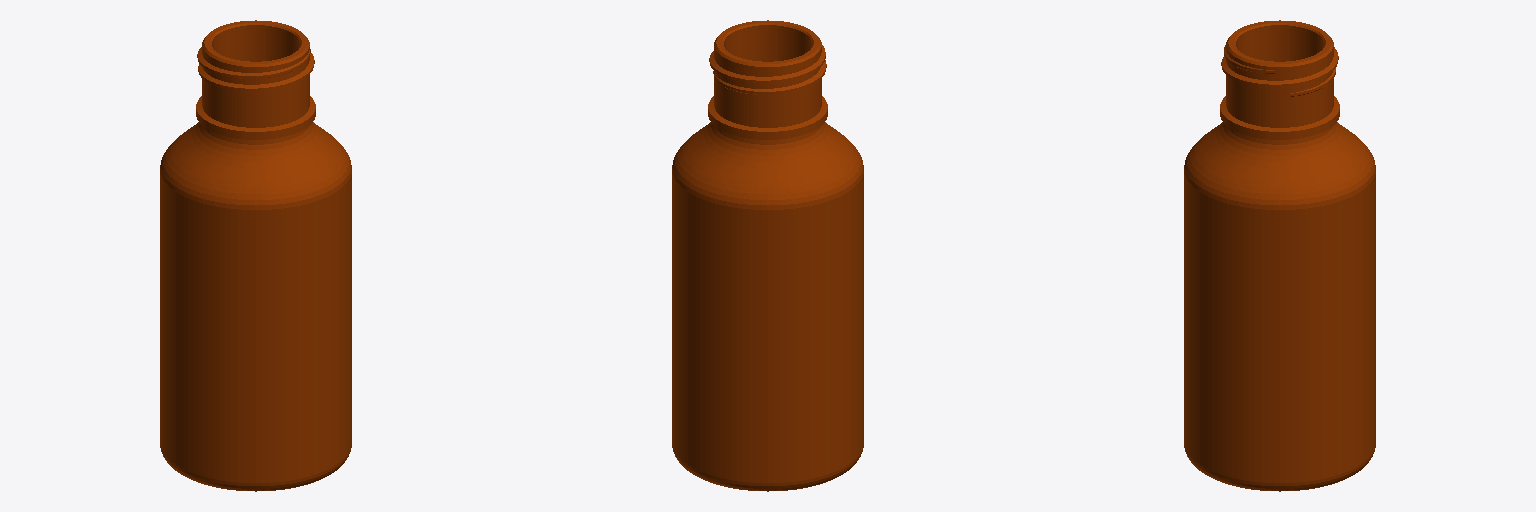
The robot description file, URDF, robot "reference_bottle":
<?xml version="1.0" encoding="utf-8"?>
<!-- Generated by scripts/generate_iris_pipette_scene.py; do not edit by hand. -->
<!-- reference_bottle.xml as a URDF: the 60 ml amber bottle, one free rigid body, origin at
     the base on the axis, +Z up, hollow (a ring of boxes) so the pipette can go down the neck. -->
<robot name="reference_bottle">
  <link name="reference_bottle">
    <inertial>
      <origin xyz="-8.54769e-06 -1.91196e-11 0.040236" rpy="0 -0.000698572 0"/>
      <mass value="0.0577634"/>
      <inertia ixx="5.29285e-05" ixy="0" ixz="0" iyy="5.29286e-05" iyz="0" izz="1.72964e-05"/>
    </inertial>
    <visual>
      <geometry><mesh filename="meshes/amber_glass.stl"/></geometry>
      <material name="bottle"><color rgba="0.62 0.28 0.05 0.5"/></material>
    </visual>
    <collision>
      <origin xyz="0 0 0.00125" rpy="0 0 0"/>
      <geometry><cylinder radius="0.018" length="0.0025"/></geometry>
    </collision>
    <collision>
      <origin xyz="0.019 0 0.034125" rpy="0 0 0"/>
      <geometry><box size="0.002 0.00716085 0.06325"/></geometry>
    </collision>
    <collision>
      <origin xyz="0.0175537 0.00727099 0.034125" rpy="0 0 0.392699"/>
      <geometry><box size="0.002 0.00716085 0.06325"/></geometry>
    </collision>
    <collision>
      <origin xyz="0.013435 0.013435 0.034125" rpy="0 0 0.785398"/>
      <geometry><box size="0.002 0.00716085 0.06325"/></geometry>
    </collision>
    <collision>
      <origin xyz="0.00727099 0.0175537 0.034125" rpy="0 0 1.1781"/>
      <geometry><box size="0.002 0.00716085 0.06325"/></geometry>
    </collision>
    <collision>
      <origin xyz="1.16341e-18 0.019 0.034125" rpy="0 0 1.5708"/>
      <geometry><box size="0.002 0.00716085 0.06325"/></geometry>
    </collision>
    <collision>
      <origin xyz="-0.00727099 0.0175537 0.034125" rpy="0 0 1.9635"/>
      <geometry><box size="0.002 0.00716085 0.06325"/></geometry>
    </collision>
    <collision>
      <origin xyz="-0.013435 0.013435 0.034125" rpy="0 0 2.35619"/>
      <geometry><box size="0.002 0.00716085 0.06325"/></geometry>
    </collision>
    <collision>
      <origin xyz="-0.0175537 0.00727099 0.034125" rpy="0 0 2.74889"/>
      <geometry><box size="0.002 0.00716085 0.06325"/></geometry>
    </collision>
    <collision>
      <origin xyz="-0.019 2.32683e-18 0.034125" rpy="0 0 3.14159"/>
      <geometry><box size="0.002 0.00716085 0.06325"/></geometry>
    </collision>
    <collision>
      <origin xyz="-0.0175537 -0.00727099 0.034125" rpy="0 0 -2.74889"/>
      <geometry><box size="0.002 0.00716085 0.06325"/></geometry>
    </collision>
    <collision>
      <origin xyz="-0.013435 -0.013435 0.034125" rpy="0 0 -2.35619"/>
      <geometry><box size="0.002 0.00716085 0.06325"/></geometry>
    </collision>
    <collision>
      <origin xyz="-0.00727099 -0.0175537 0.034125" rpy="0 0 -1.9635"/>
      <geometry><box size="0.002 0.00716085 0.06325"/></geometry>
    </collision>
    <collision>
      <origin xyz="-3.49024e-18 -0.019 0.034125" rpy="0 0 -1.5708"/>
      <geometry><box size="0.002 0.00716085 0.06325"/></geometry>
    </collision>
    <collision>
      <origin xyz="0.00727099 -0.0175537 0.034125" rpy="0 0 -1.1781"/>
      <geometry><box size="0.002 0.00716085 0.06325"/></geometry>
    </collision>
    <collision>
      <origin xyz="0.013435 -0.013435 0.034125" rpy="0 0 -0.785398"/>
      <geometry><box size="0.002 0.00716085 0.06325"/></geometry>
    </collision>
    <collision>
      <origin xyz="0.0175537 -0.00727099 0.034125" rpy="0 0 -0.392699"/>
      <geometry><box size="0.002 0.00716085 0.06325"/></geometry>
    </collision>
    <collision>
      <origin xyz="0.010825 0 0.086375" rpy="0 0 0"/>
      <geometry><box size="0.00325 0.00762153 0.01725"/></geometry>
    </collision>
    <collision>
      <origin xyz="0.00765443 0.00765443 0.086375" rpy="0 0 0.785398"/>
      <geometry><box size="0.00325 0.00762153 0.01725"/></geometry>
    </collision>
    <collision>
      <origin xyz="6.6284e-19 0.010825 0.086375" rpy="0 0 1.5708"/>
      <geometry><box size="0.00325 0.00762153 0.01725"/></geometry>
    </collision>
    <collision>
      <origin xyz="-0.00765443 0.00765443 0.086375" rpy="0 0 2.35619"/>
      <geometry><box size="0.00325 0.00762153 0.01725"/></geometry>
    </collision>
    <collision>
      <origin xyz="-0.010825 1.32568e-18 0.086375" rpy="0 0 3.14159"/>
      <geometry><box size="0.00325 0.00762153 0.01725"/></geometry>
    </collision>
    <collision>
      <origin xyz="-0.00765443 -0.00765443 0.086375" rpy="0 0 -2.35619"/>
      <geometry><box size="0.00325 0.00762153 0.01725"/></geometry>
    </collision>
    <collision>
      <origin xyz="-1.98852e-18 -0.010825 0.086375" rpy="0 0 -1.5708"/>
      <geometry><box size="0.00325 0.00762153 0.01725"/></geometry>
    </collision>
    <collision>
      <origin xyz="0.00765443 -0.00765443 0.086375" rpy="0 0 -0.785398"/>
      <geometry><box size="0.00325 0.00762153 0.01725"/></geometry>
    </collision>
  </link>
</robot>

--- Facts derived from the render (not from the file) ---
Views: 3 orthographic renders of the robot side by side, from view 1: azimuth 30°, elevation 25°; view 2: azimuth 150°, elevation 25°; view 3: azimuth 270°, elevation 25°.
Robot: reference_bottle — 1 links, 0 joints (none); root link reference_bottle; default pose: every joint at zero.
Links seen in each view (by area): view 1: reference_bottle; view 2: reference_bottle; view 3: reference_bottle.
Link boxes in pixels (bbox=[...]): reference_bottle: bbox=[160, 20, 351, 491]; reference_bottle: bbox=[672, 20, 863, 491]; reference_bottle: bbox=[1184, 20, 1375, 491].
Bounding box of the posed robot: 0.04 × 0.04 × 0.095 m (x, y, z).
Meshes: 1 distinct files referenced, 1 mesh visuals loaded (1 binary STL).
